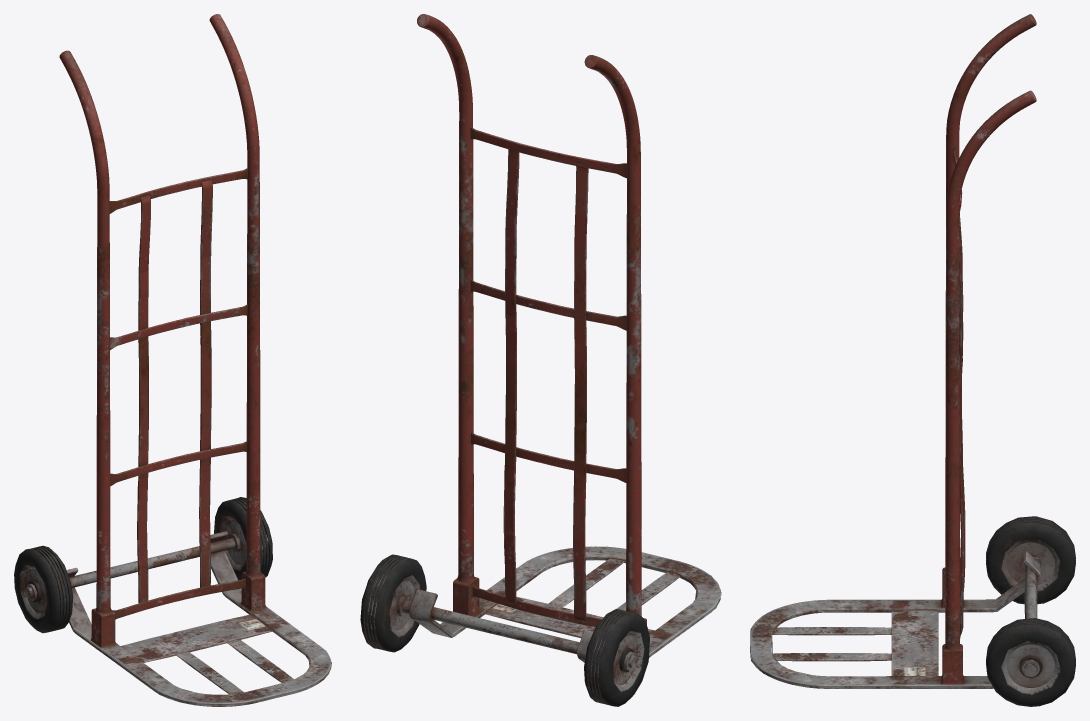
Rendered from hand_truck.glb.
3 views of the same model, side by side, from view 1: azimuth 30°, elevation 25°; view 2: azimuth 150°, elevation 25°; view 3: azimuth 270°, elevation 25° (orthographic). The views are drawn at different scales.
Parts seen in each view (by area): view 1: hand_truck; view 2: hand_truck; view 3: hand_truck.
Boxes of the visible parts, left/top/right/bottom form: hand_truck: left=14, top=14, right=331, bottom=706; hand_truck: left=360, top=14, right=721, bottom=706; hand_truck: left=750, top=14, right=1075, bottom=706.
Bounding box in the file's own units: 0.5933 × 1.4 × 0.6923.
Materials: 1 (1 with a texture image).
